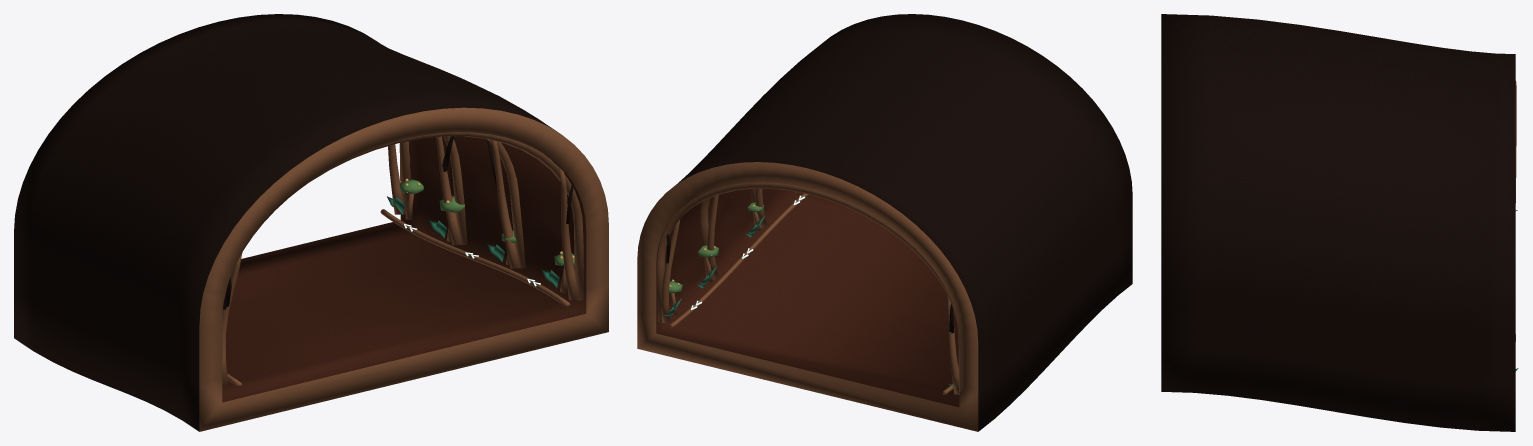
Rendered from grade_down_lod1.glb.
3 views of the same model, side by side, from view 1: azimuth 30°, elevation 25°; view 2: azimuth 150°, elevation 25°; view 3: azimuth 270°, elevation 25° (orthographic). The views are drawn at different scales.
Parts seen in each view (by area): view 1: TunnelGeometry.001; view 2: TunnelGeometry.001; view 3: TunnelGeometry.001.
Part boxes in pixels (box(x1,y1,x2,y2)): TunnelGeometry.001: box(14, 14, 608, 431); TunnelGeometry.001: box(637, 14, 1132, 431); TunnelGeometry.001: box(1161, 14, 1518, 431).
Size of the model in its own units: 15.3 by 11.02 by 12.1.
Materials: 7 (2 with a texture image).
